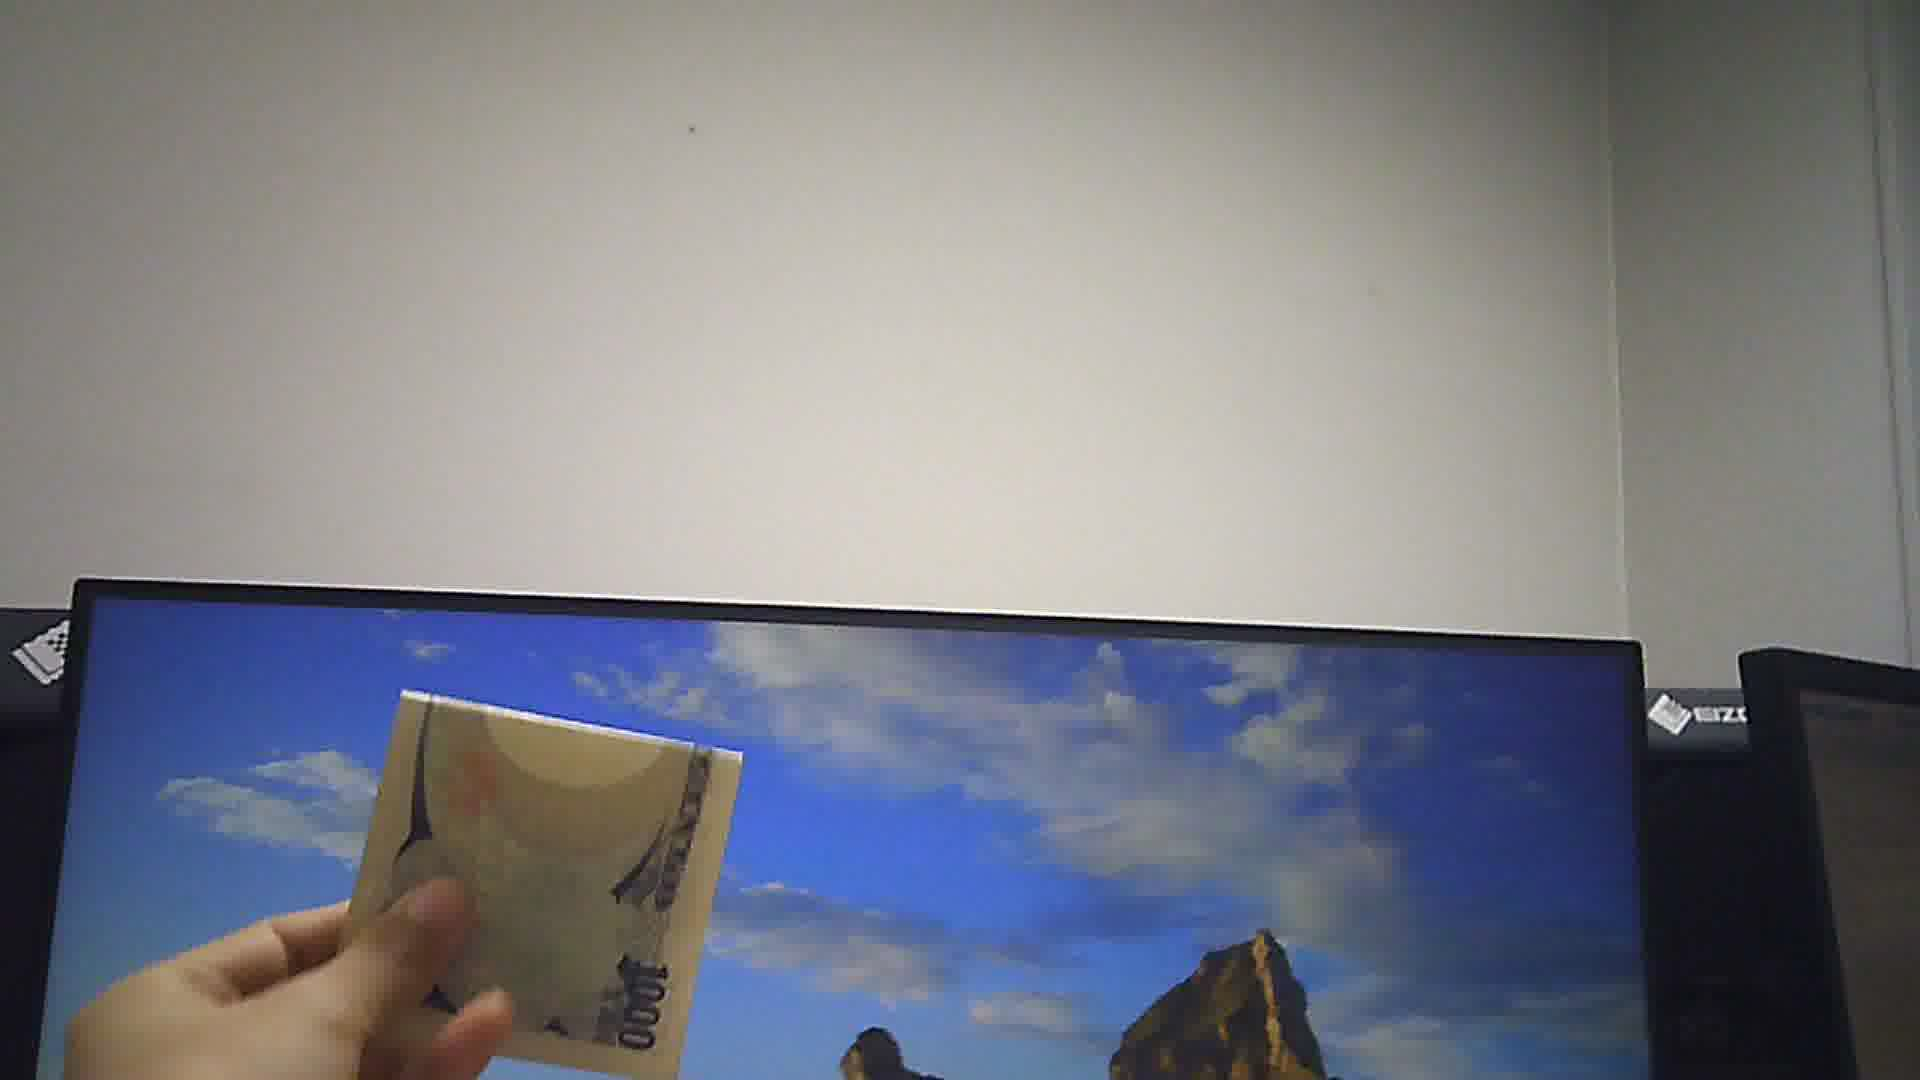1,000 Yen: (338, 688, 742, 1079)
